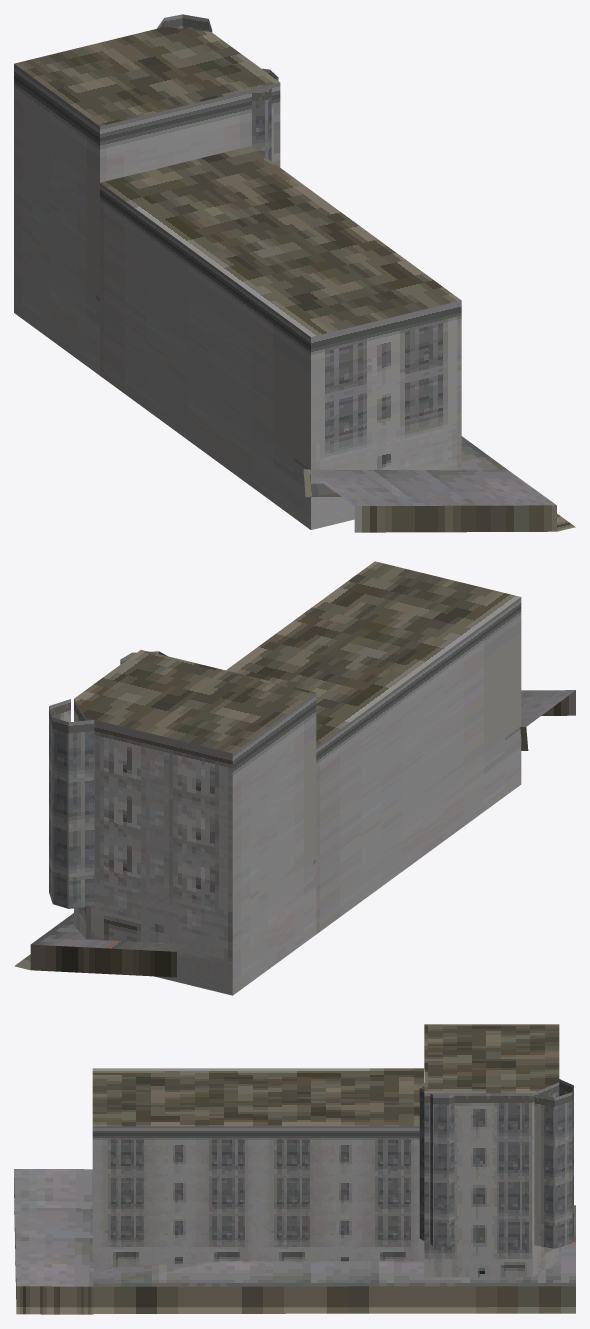
File: lodvic1_sfw69b.obj
The picture shows the model from 3 angles, top to bottom: view 1: azimuth 30°, elevation 25°; view 2: azimuth 150°, elevation 25°; view 3: azimuth 270°, elevation 25°; orthographic projection. The views are drawn at different scales.
Visible parts, largest first — view 1: LODvic1_sfw69b; view 2: LODvic1_sfw69b; view 3: LODvic1_sfw69b.
Boxes of the visible parts, box(x1,y1,x2,y2) form: LODvic1_sfw69b: box(14, 14, 575, 532); LODvic1_sfw69b: box(14, 561, 575, 995); LODvic1_sfw69b: box(14, 1024, 575, 1314).
Bounding box in the file's own units: 27.89 × 31.56 × 77.5.
7 materials, 7 textured.
